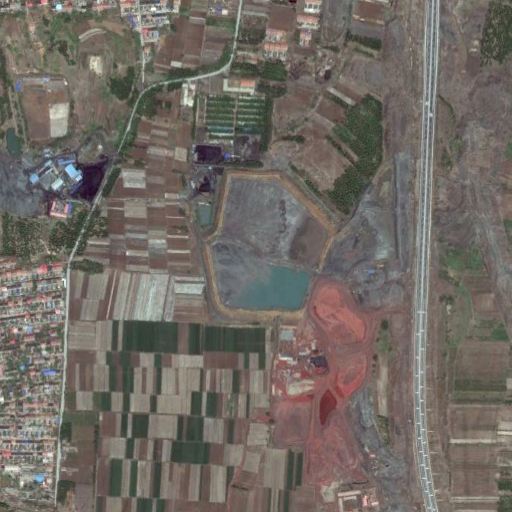tp: (191, 168, 340, 324)
